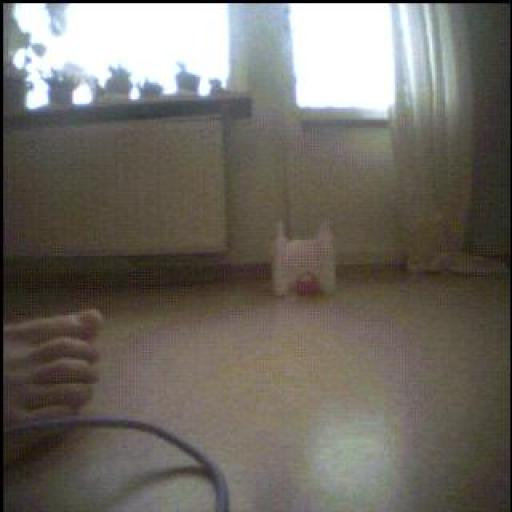Basket: (297, 273, 321, 295)
